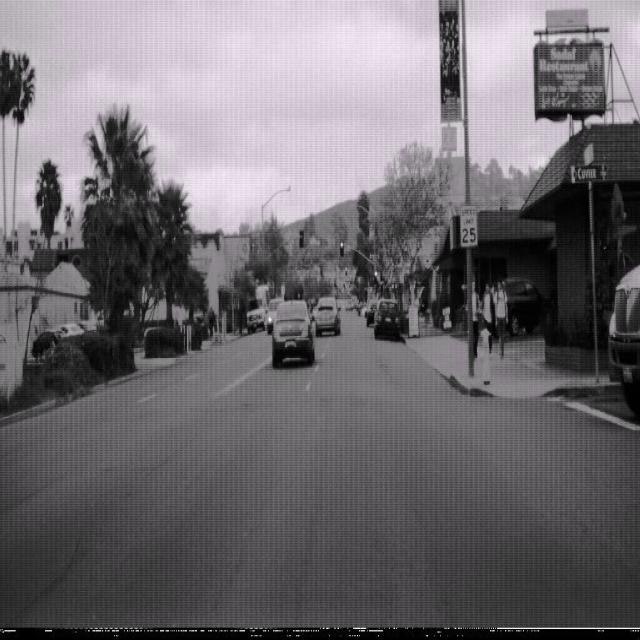speedLimit25: (459, 202, 478, 248)
